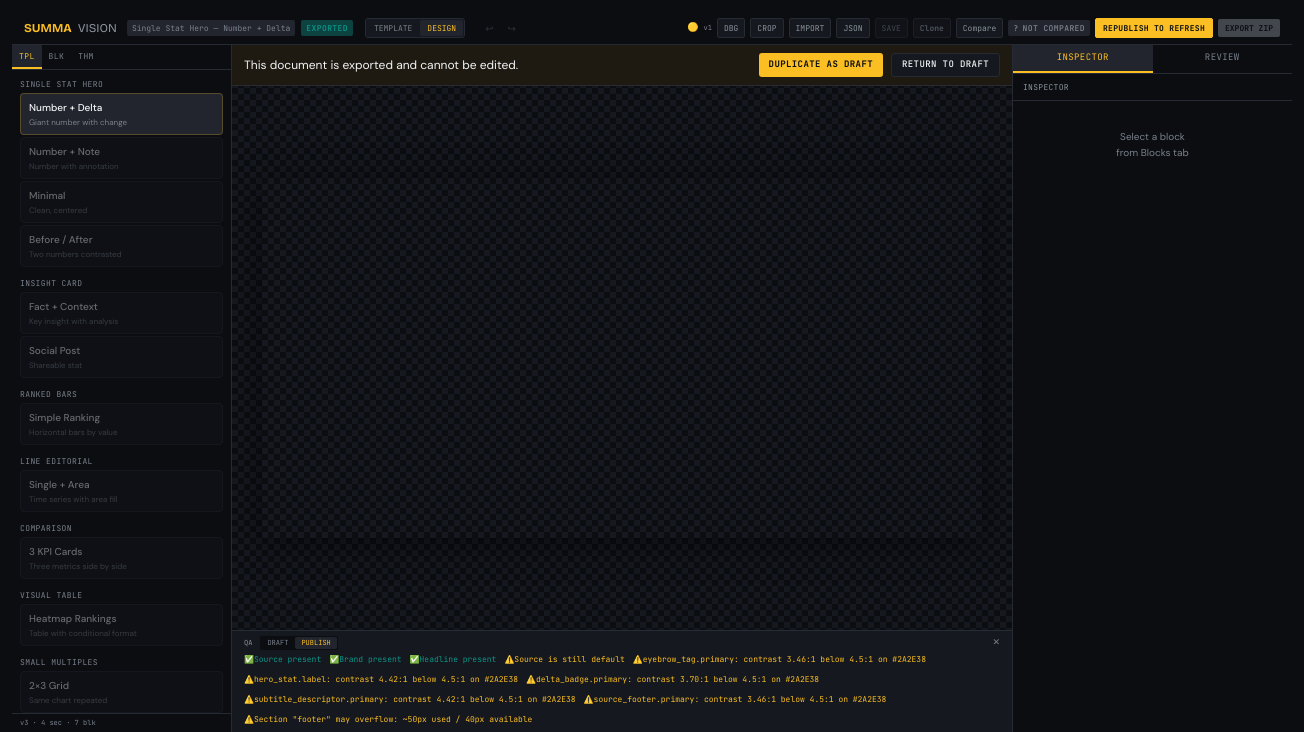
Test case: PR-09 Scenario 4 — Reasons tooltip i18n coverage › renders i18n label for reason: value_changed
The width and height of the screenshot is (1304, 732).
Click the button with test id "compare-button" at x=980, y=28, box left=956, top=18, right=1003, bottom=38
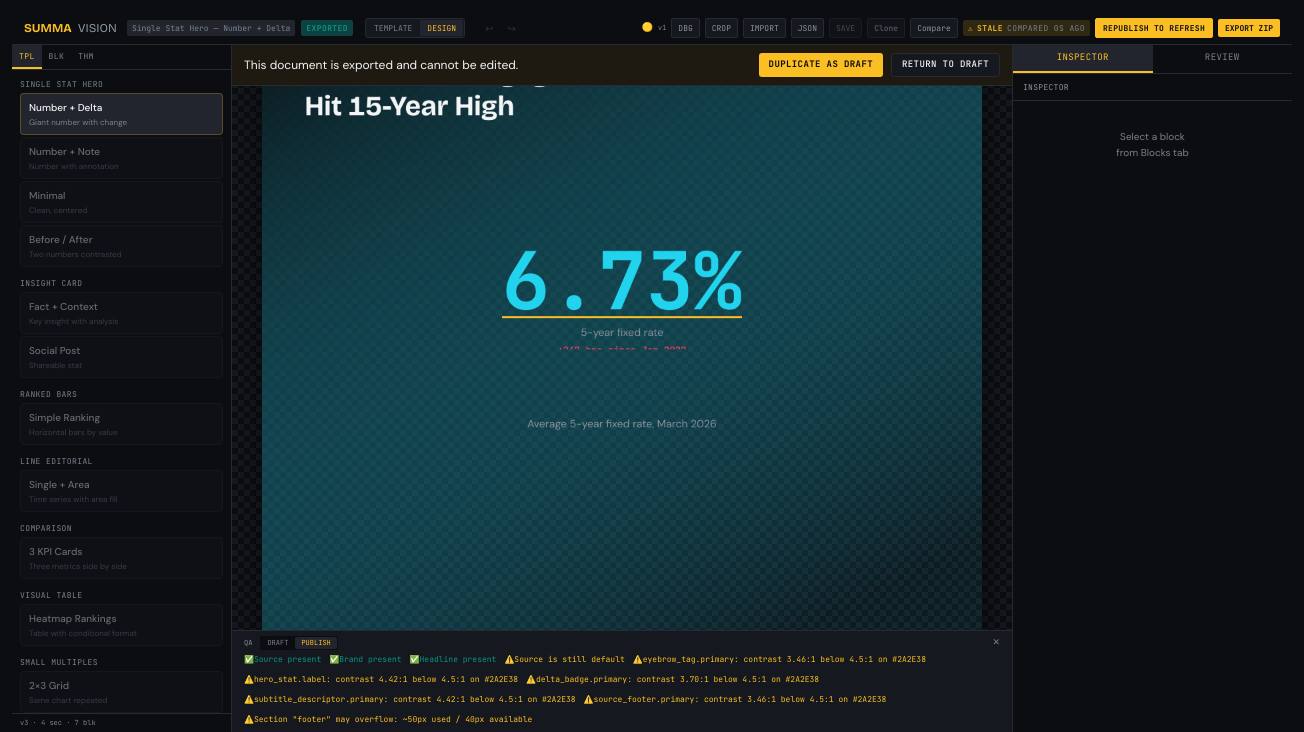
Hover over the element with test id "compare-badge-wrapper" at x=1026, y=28, box left=963, top=20, right=1090, bottom=36
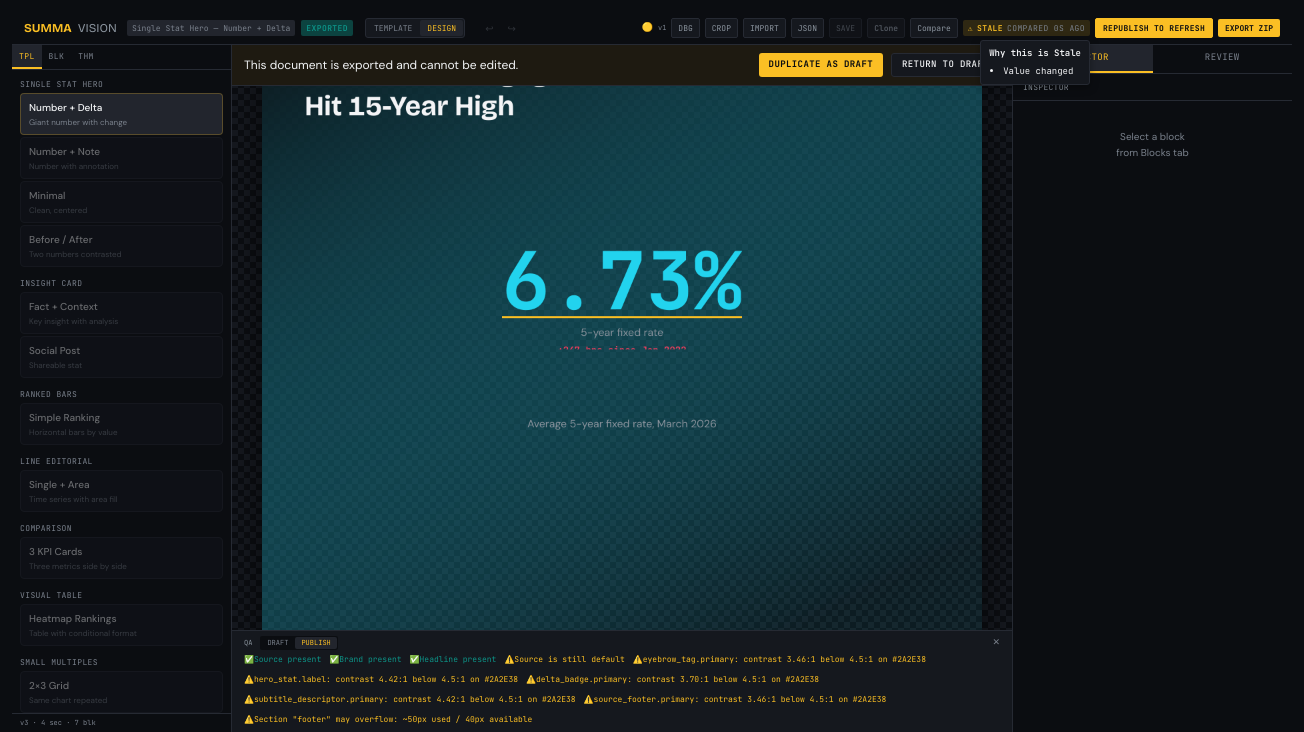
Check: the list item "Value changed" is shown, box left=1003, top=64, right=1081, bottom=78
